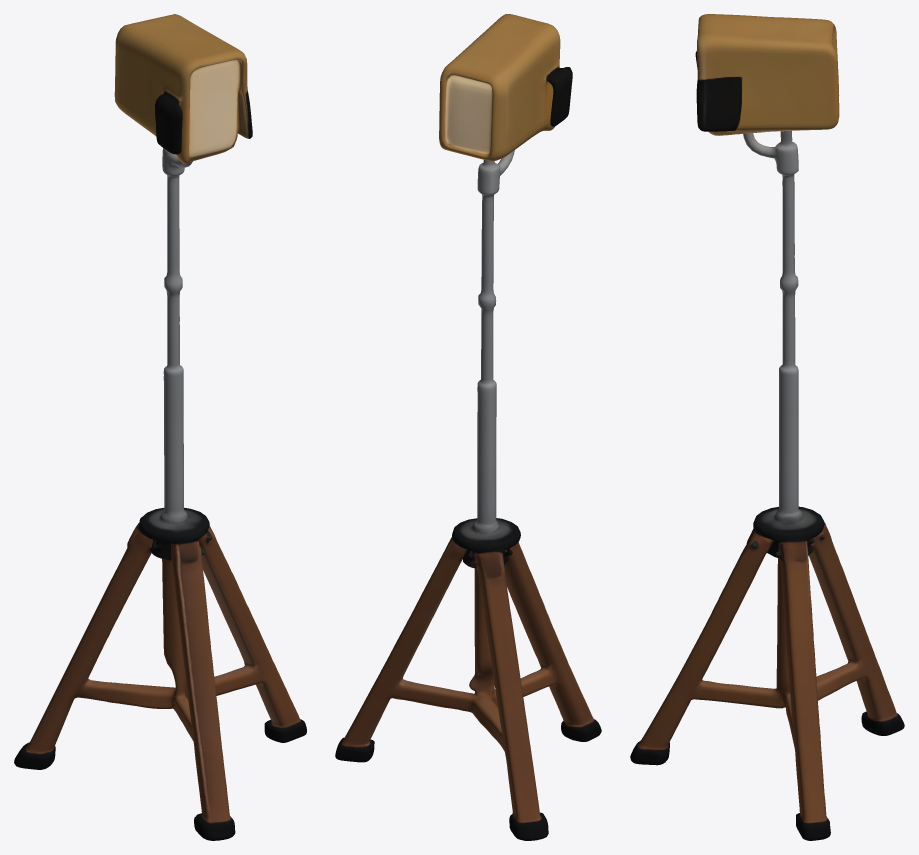
The model's file is text_attempt.glb.
The picture shows the model from 3 angles, left to right: view 1: azimuth 30°, elevation 25°; view 2: azimuth 150°, elevation 25°; view 3: azimuth 270°, elevation 25°; orthographic projection. The views are drawn at different scales.
Visible parts, largest first — view 1: model; view 2: model; view 3: model.
Part boxes in pixels (x1,y1,x2,y2): model: [14, 14, 306, 840]; model: [335, 14, 601, 840]; model: [630, 14, 904, 840].
Size of the model in its own units: 0.6657 by 1.9 by 0.63.
1 material, 1 textured.
